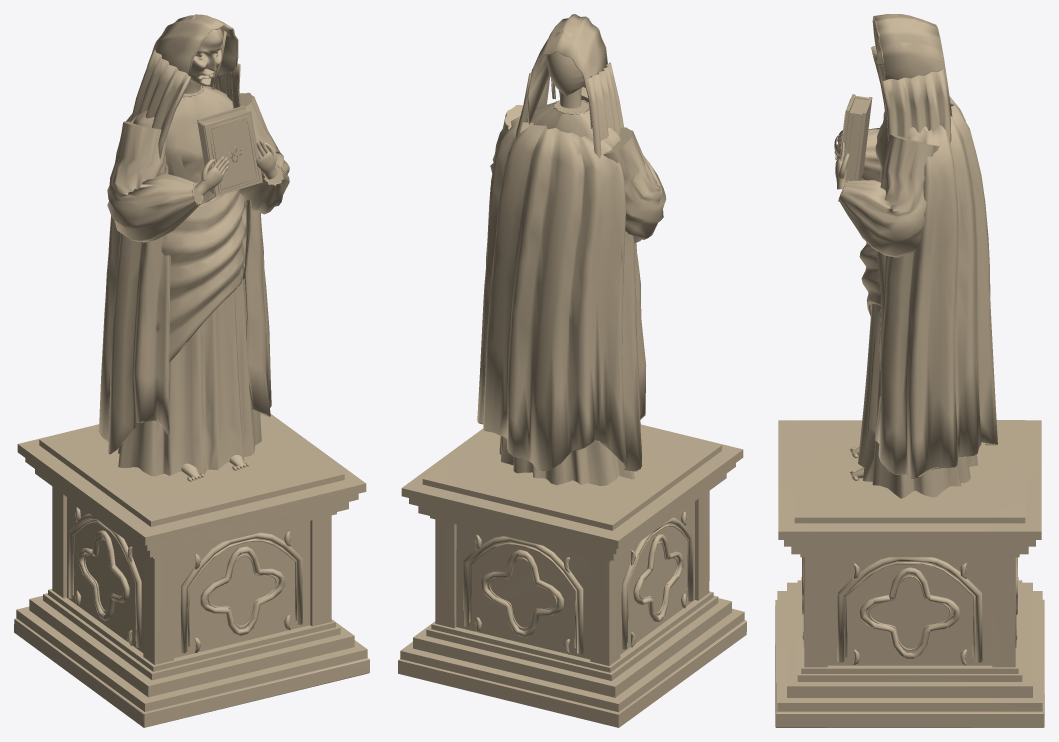
Rendered from library-guardian.glb.
3 views of the same model, side by side, from view 1: azimuth 30°, elevation 25°; view 2: azimuth 150°, elevation 25°; view 3: azimuth 270°, elevation 25° (orthographic). The views are drawn at different scales.
Visible parts, largest first — view 1: SM_LibraryGuardian_Complete; view 2: SM_LibraryGuardian_Complete; view 3: SM_LibraryGuardian_Complete.
Part boxes in pixels (x1,y1,x2,y2): SM_LibraryGuardian_Complete: (14,14,369,727); SM_LibraryGuardian_Complete: (398,14,746,727); SM_LibraryGuardian_Complete: (775,14,1044,727).
Bounding box in the file's own units: 1.4 × 3.77 × 1.4.
